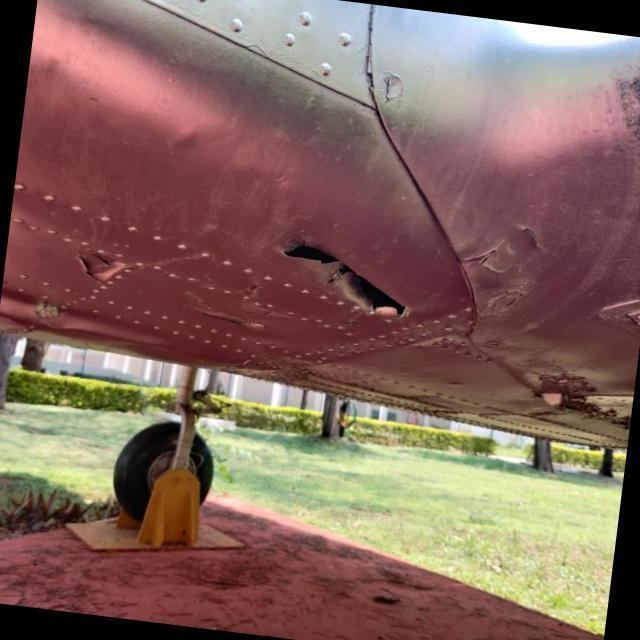Dent: (156, 116, 206, 167)
Rupture: (262, 218, 430, 336)
